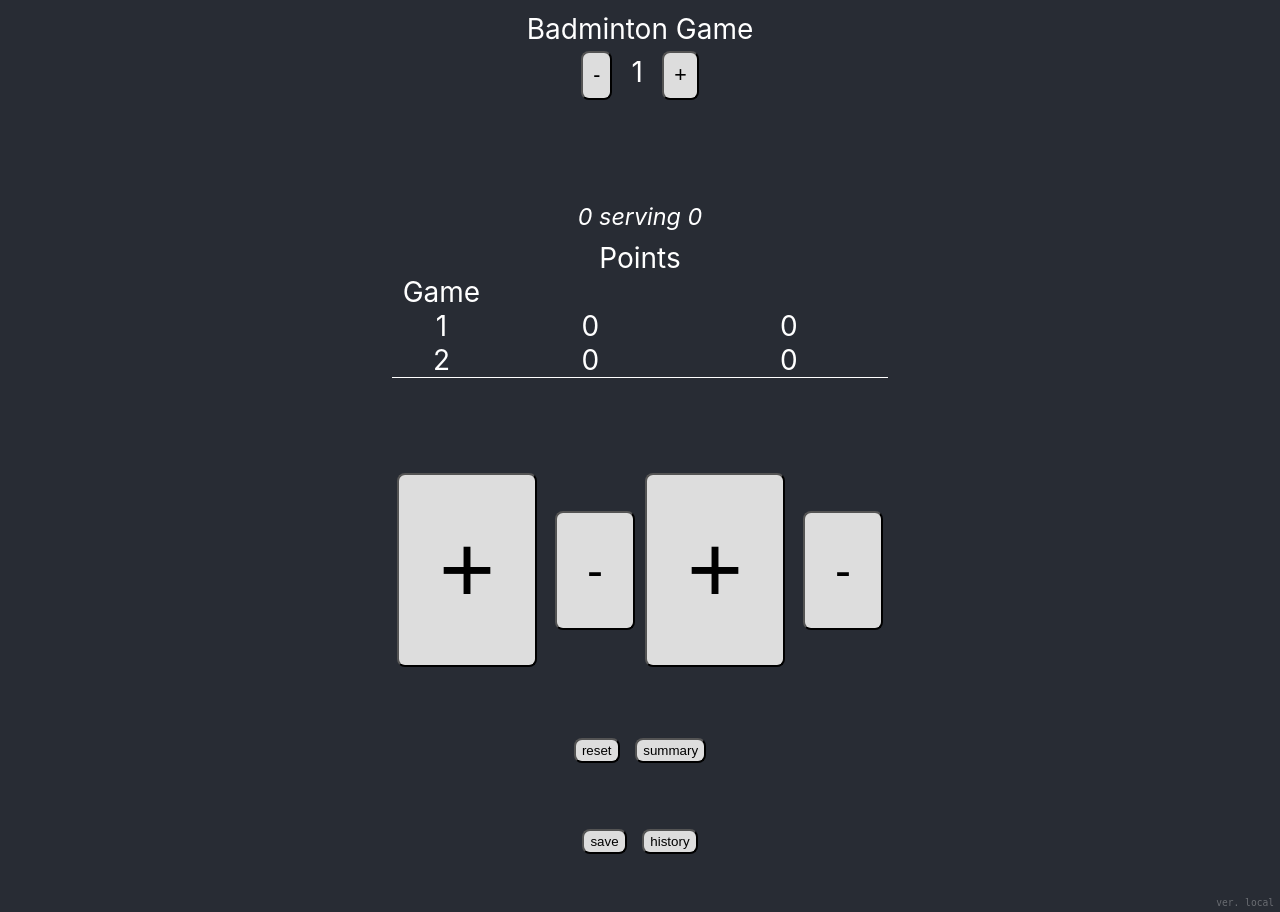
Test: score as words › matches correct shot counter
Expected: the text with class "boxScoreInWords" reads "0 serving 0", [578,202,702,231]
Click the 3rd button "+" at x=715, y=570, box [645,473,785,667]
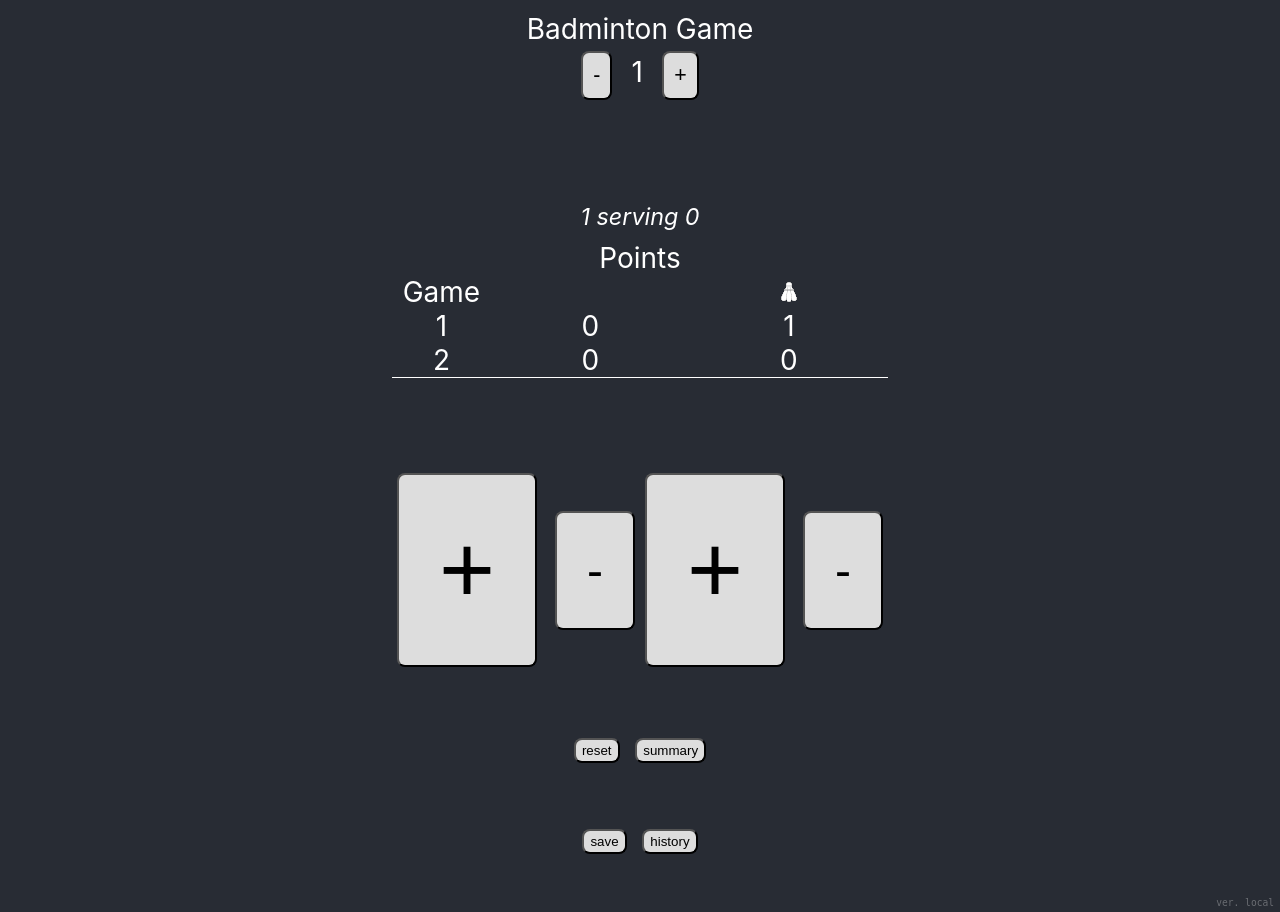
Expected: the text with class "boxScoreInWords" reads "1 serving 0", [580,202,700,231]
Click the 3rd button "+" at x=715, y=570, box [645,473,785,667]
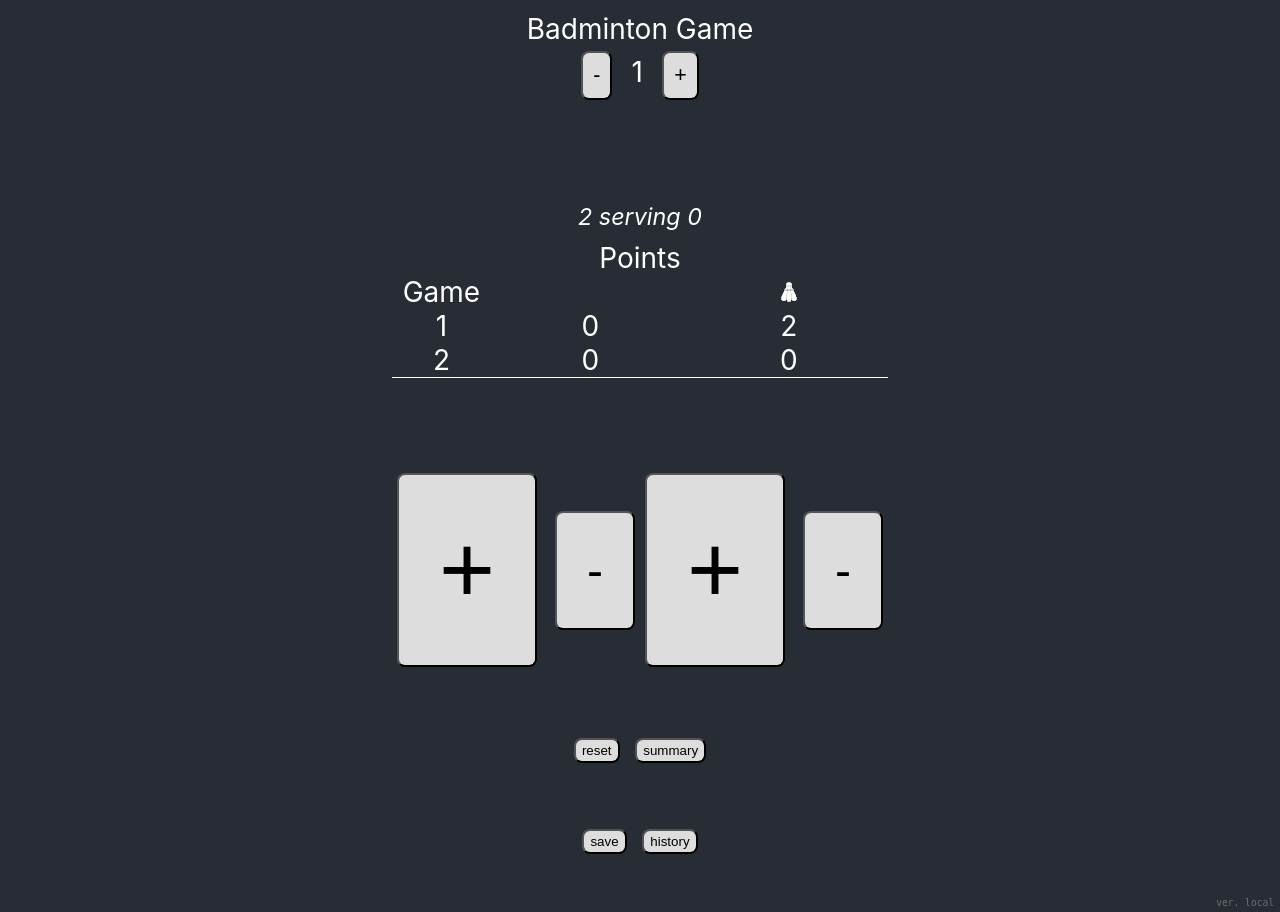
Expected: the text with class "boxScoreInWords" reads "2 serving 0", [578,202,702,231]
Click the 3rd button "+" at x=715, y=570, box [645,473,785,667]
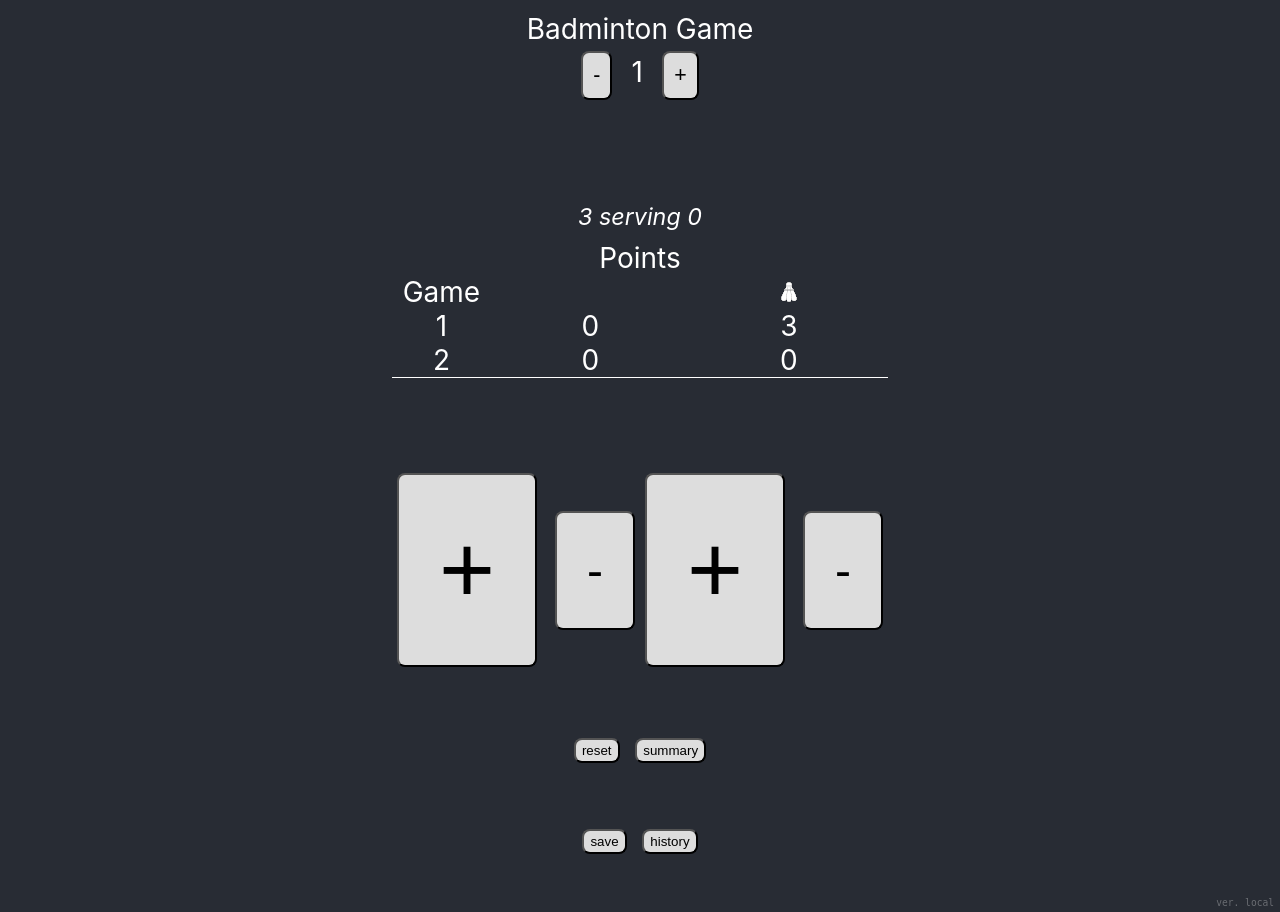
Expected: the text with class "boxScoreInWords" reads "3 serving 0", [578,202,702,231]
